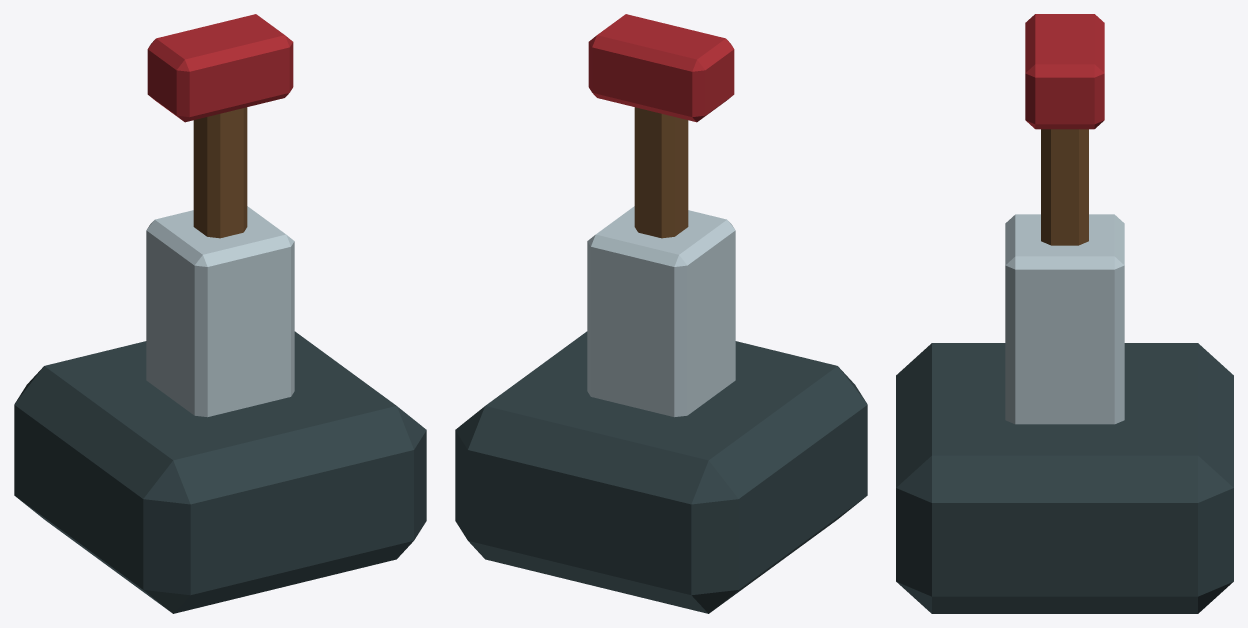
Rendered from adventure-lever.glb.
The picture shows the model from 3 angles, left to right: view 1: azimuth 30°, elevation 25°; view 2: azimuth 150°, elevation 25°; view 3: azimuth 270°, elevation 25°; orthographic projection. The views are drawn at different scales.
Visible parts, largest first — view 1: Stone_base, Lever_support, Lever_grip, Lever_handle; view 2: Stone_base, Lever_support, Lever_grip, Lever_handle; view 3: Stone_base, Lever_support, Lever_grip, Lever_handle.
Part boxes in pixels (box(x1,y1,x2,y2)): Stone_base: box(14, 331, 426, 613); Lever_support: box(146, 206, 294, 417); Lever_grip: box(147, 14, 293, 122); Lever_handle: box(193, 107, 247, 238); Stone_base: box(455, 331, 867, 613); Lever_support: box(587, 206, 735, 417); Lever_grip: box(588, 14, 734, 122); Lever_handle: box(634, 107, 688, 238); Stone_base: box(896, 343, 1233, 613); Lever_support: box(1005, 214, 1124, 424); Lever_grip: box(1025, 14, 1104, 129); Lever_handle: box(1041, 129, 1088, 245).
Size of the model in its own units: 0.85 by 1.44 by 0.85.
